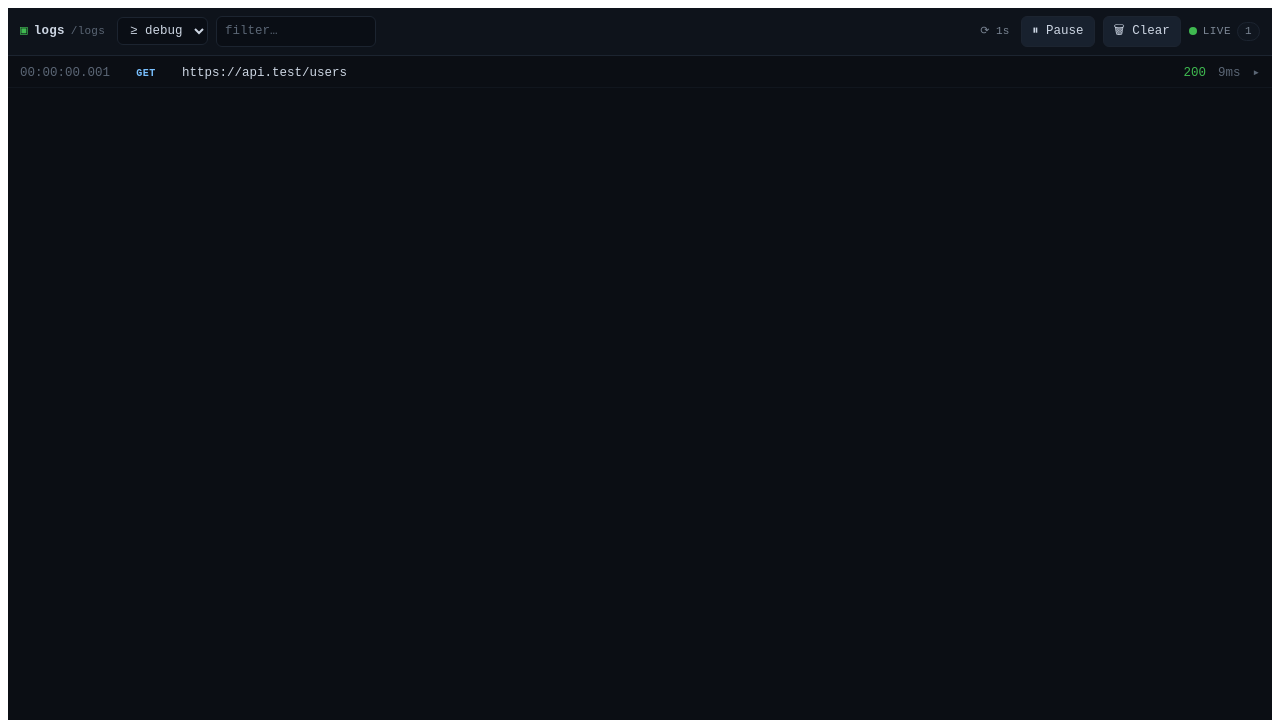
renders an http entry as a network row and expands request/response
Check: the text "https://api.test/users" is shown, box [182,66,347,80]
Check: the text "GET" is shown, box [136,68,156,79]
Click the button "00:00:00.001 GET https://api.test/users 200 9ms ▸" at (65, 73), box [8,60,1272,87]
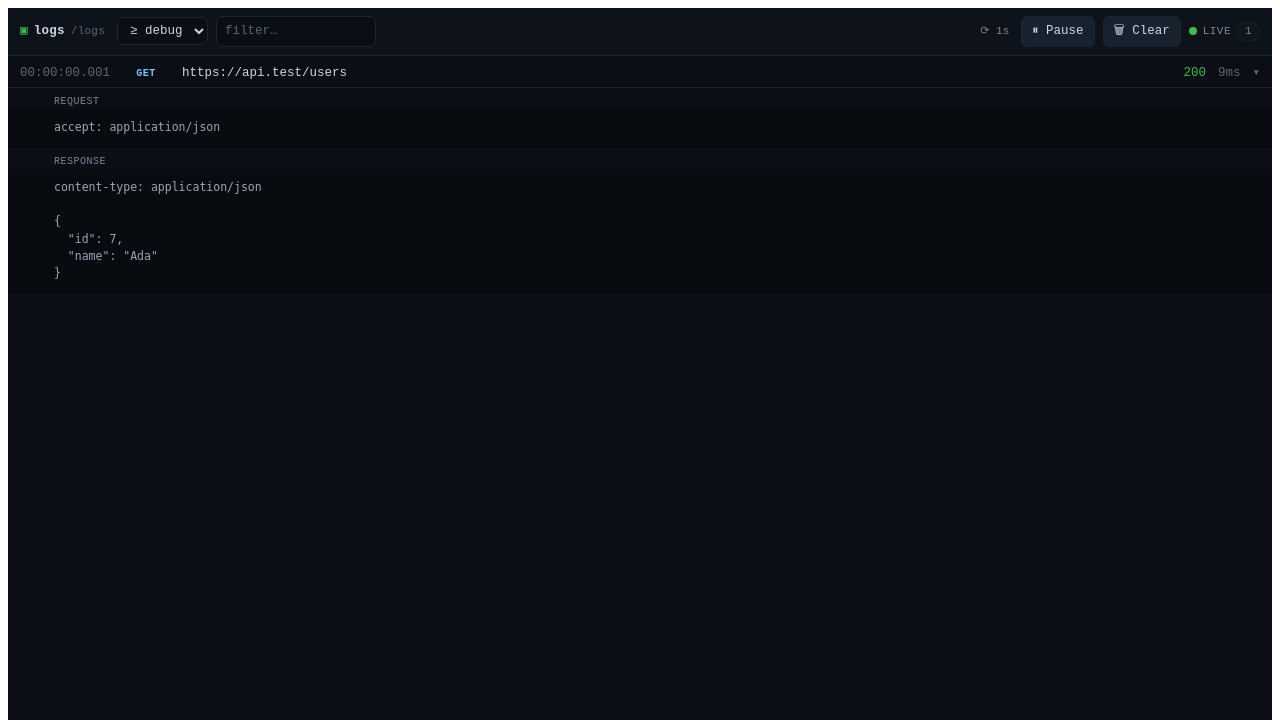
Check: the text "content-type: application/json { \"id\": 7, \"name\": \"Ada\" }" is shown, box [8,169,1272,294]
Check: the text "Request" is shown, box [54,96,100,106]
Check: the text "Response" is shown, box [54,156,106,167]
